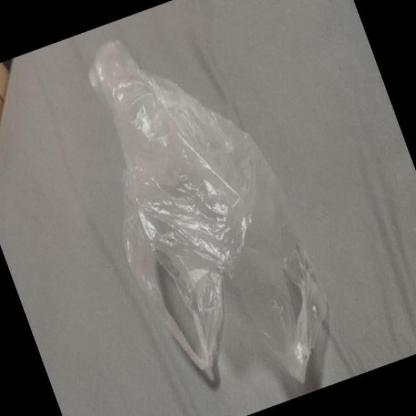Plastic Bag: (89, 38, 328, 386)
